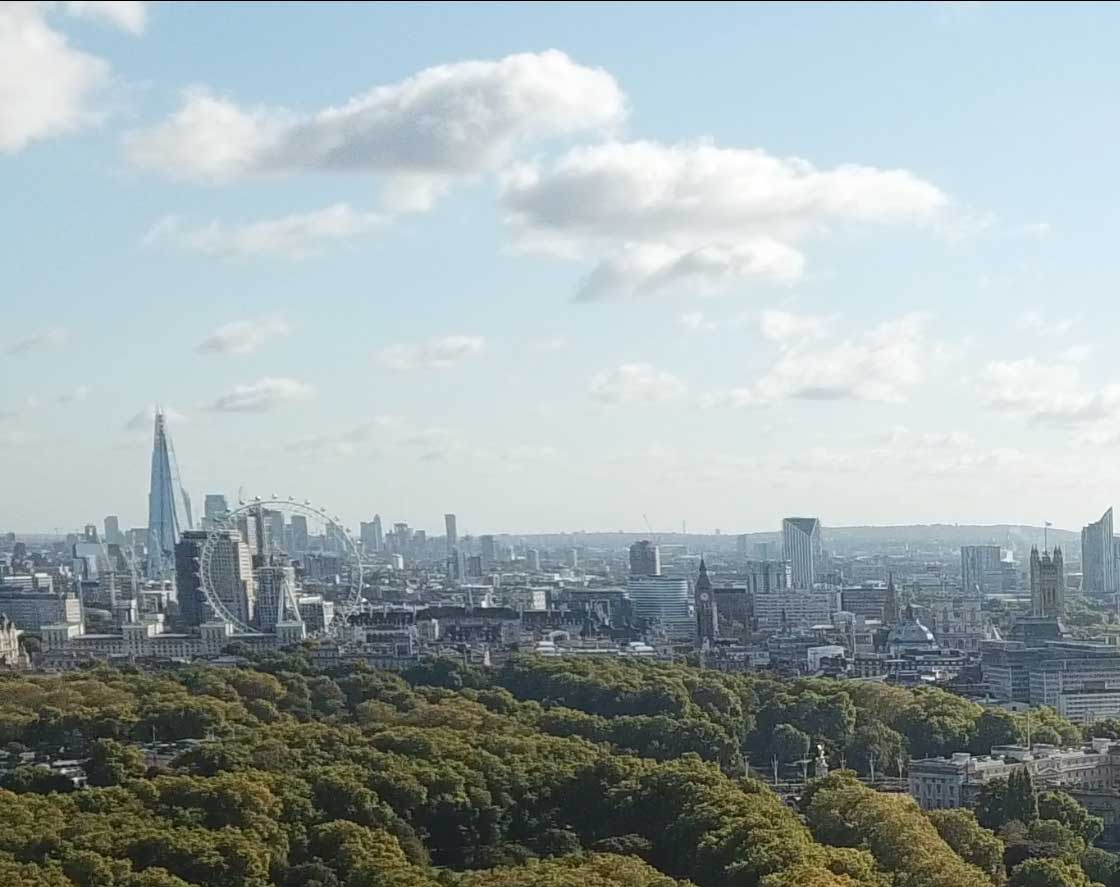trees: (25, 676, 858, 887)
